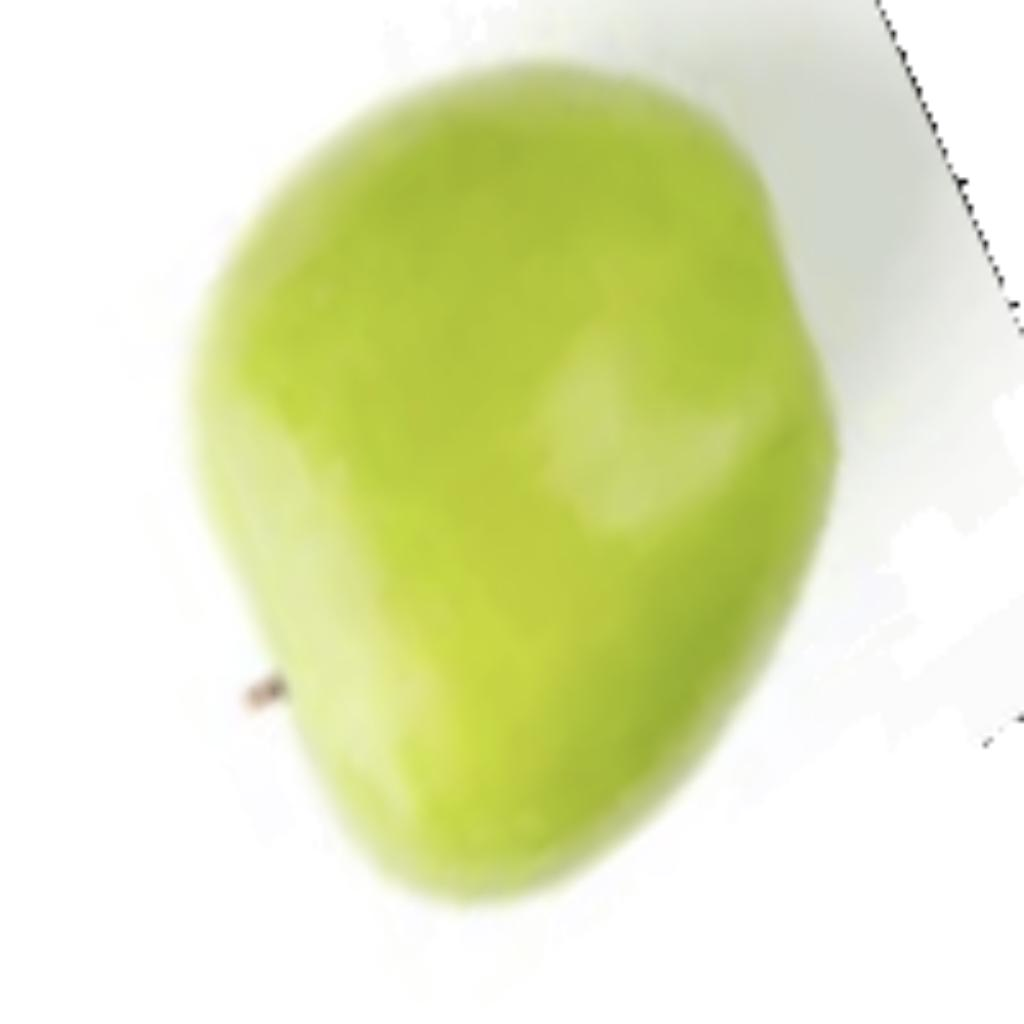apple: (174, 5, 850, 916)
